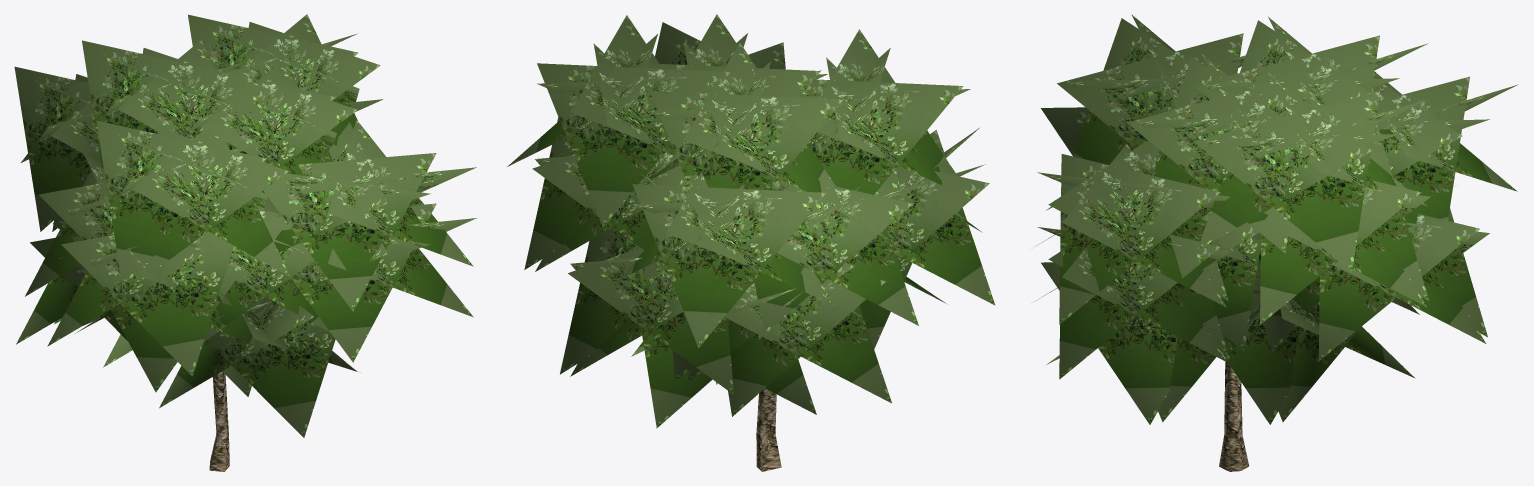
Rendered from apple-1.glb.
3 renders of one model, left to right at view 1: azimuth 30°, elevation 25°; view 2: azimuth 150°, elevation 25°; view 3: azimuth 270°, elevation 25°, orthographic. The views are drawn at different scales.
Parts seen in each view (by area): view 1: apple-1; view 2: apple-1; view 3: apple-1.
Boxes of the visible parts, bbox=[...] form: apple-1: bbox=[14, 14, 476, 471]; apple-1: bbox=[507, 14, 995, 471]; apple-1: bbox=[1034, 14, 1518, 471].
Bounding box in the file's own units: 6.92 × 6.5 × 7.2.
Materials: 2 (2 with a texture image).
